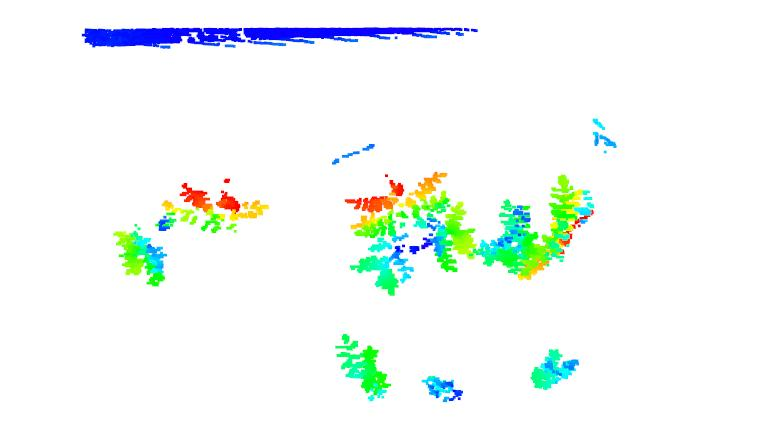chickpea: (342, 171, 474, 295), (502, 162, 600, 282), (160, 177, 271, 240), (472, 197, 537, 275), (102, 225, 170, 293), (333, 332, 394, 403), (528, 346, 583, 390)
